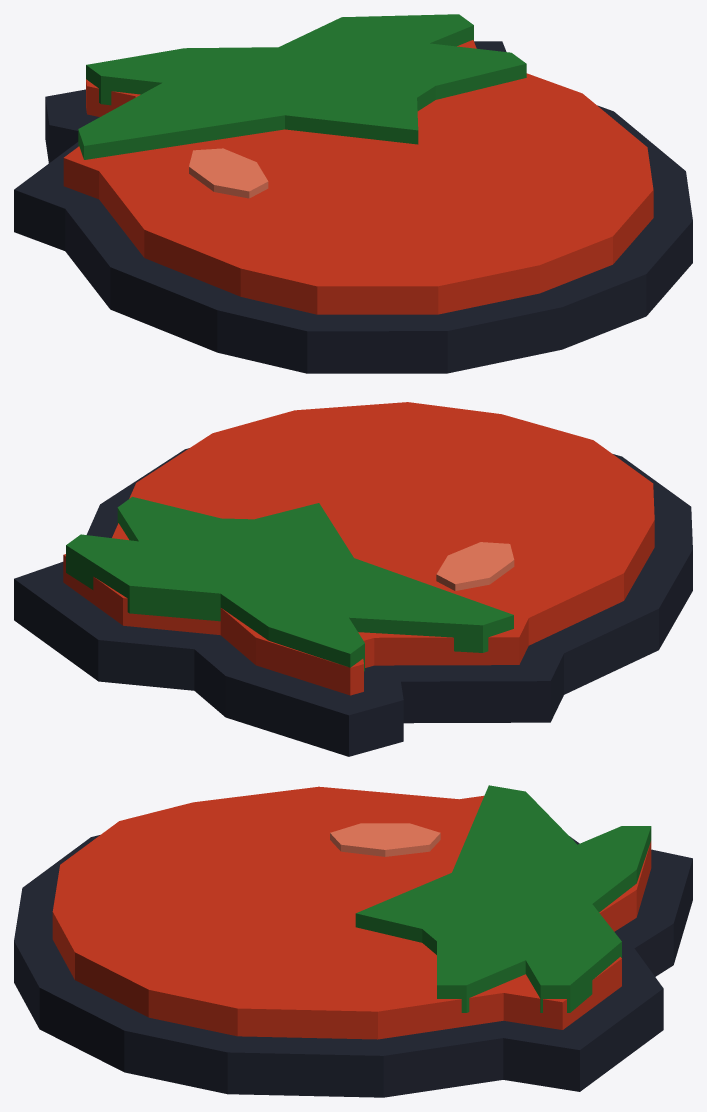
Rendered from tomato.fbx.
3 views of the same model, one above another, from view 1: azimuth 30°, elevation 25°; view 2: azimuth 150°, elevation 25°; view 3: azimuth 270°, elevation 25° (orthographic). The views are drawn at different scales.
Visible parts, largest first — view 1: tomato; view 2: tomato; view 3: tomato.
Part boxes in pixels (box(x1,y1,x2,y2)): tomato: box(14, 14, 692, 373); tomato: box(14, 402, 692, 756); tomato: box(14, 785, 692, 1097).
Bounding box in the file's own units: 0.7943 × 0.12 × 0.8832.
1 material, 1 textured.
